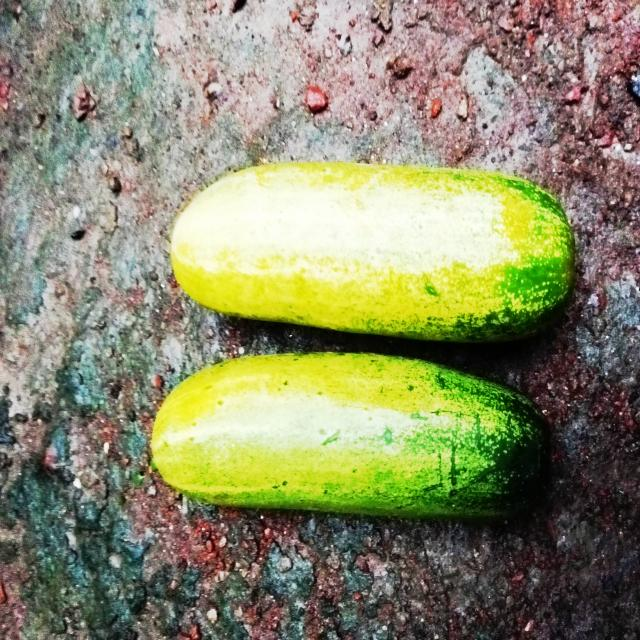Fresh-Cucumber: (168, 155, 578, 347), (149, 347, 572, 527)
